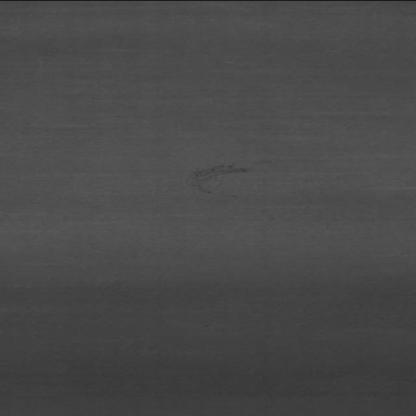water_spot: (172, 158, 266, 202)
